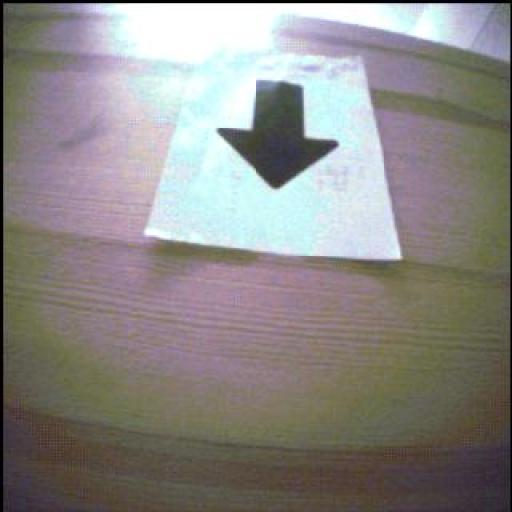Arrow: (219, 81, 339, 190)
